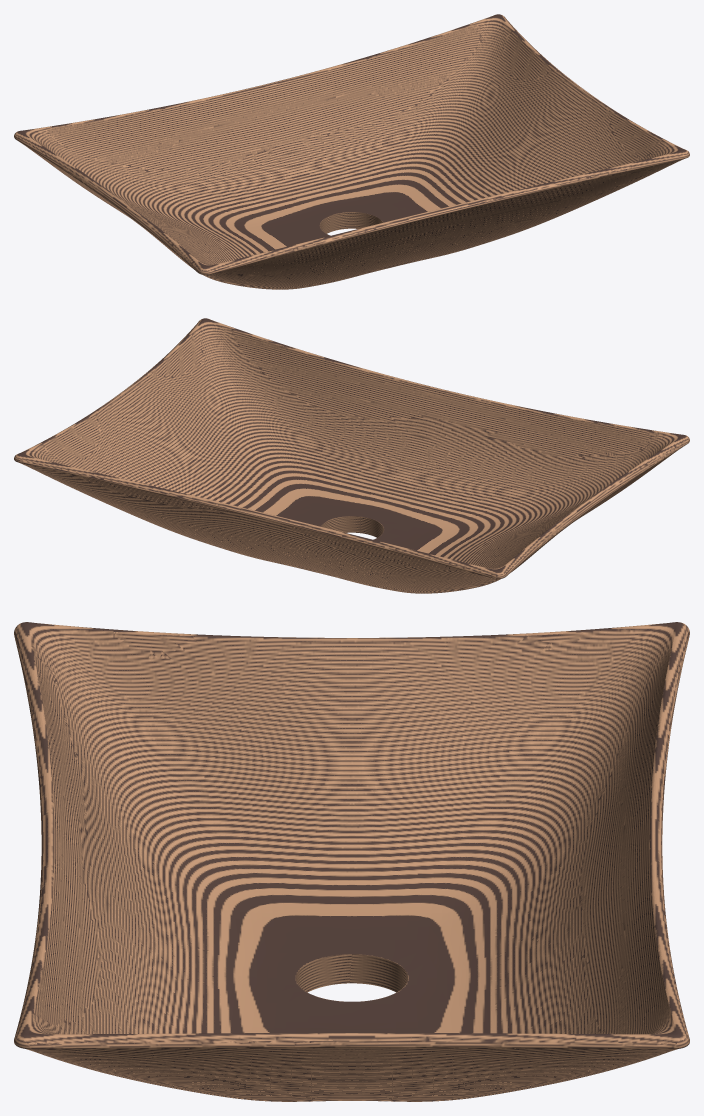
File: Раковина 2_3.glb
3 views of the same model, one above another, from view 1: azimuth 30°, elevation 25°; view 2: azimuth 150°, elevation 25°; view 3: azimuth 270°, elevation 25° (orthographic). The views are drawn at different scales.
Parts seen in each view (by area): view 1: Заготовка4; view 2: Заготовка4; view 3: Заготовка4.
Boxes of the visible parts, <box> form: Заготовка4: <box>14,14,689,289</box>; Заготовка4: <box>14,318,689,593</box>; Заготовка4: <box>14,622,689,1101</box>.
Size of the model in its own units: 622 by 122 by 421.
1 material, 1 textured.
